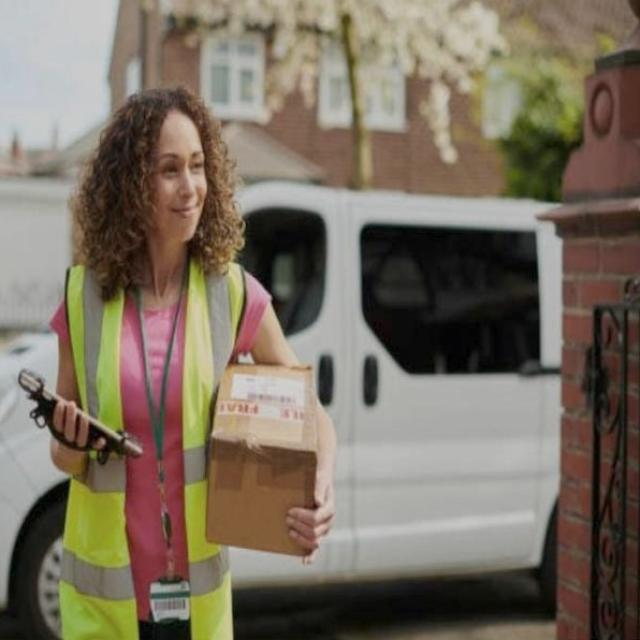ID_card: (125, 293, 193, 631)
